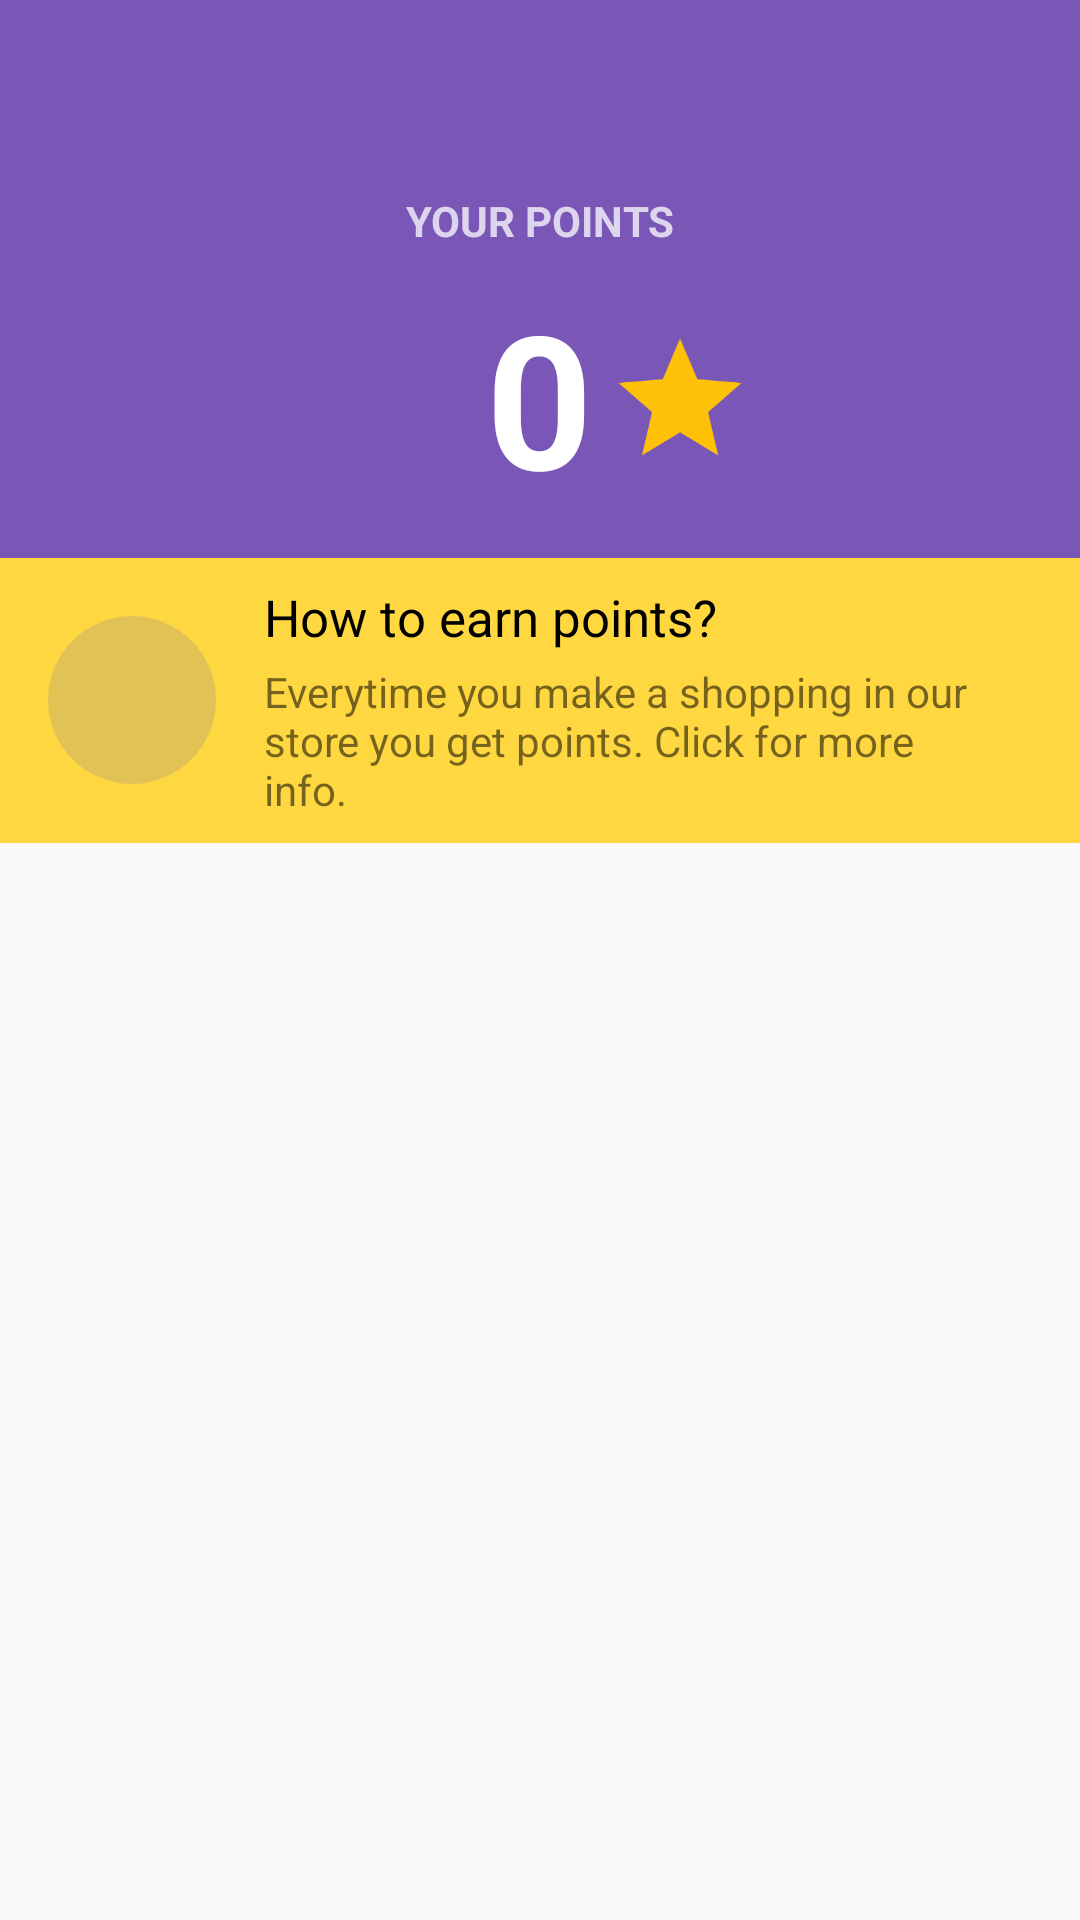

Locate icon controls on the screen. Image size 1080px×1920px, boxes as region(x1, y1, x2, y2).
grade points: region(619, 339, 741, 455)
